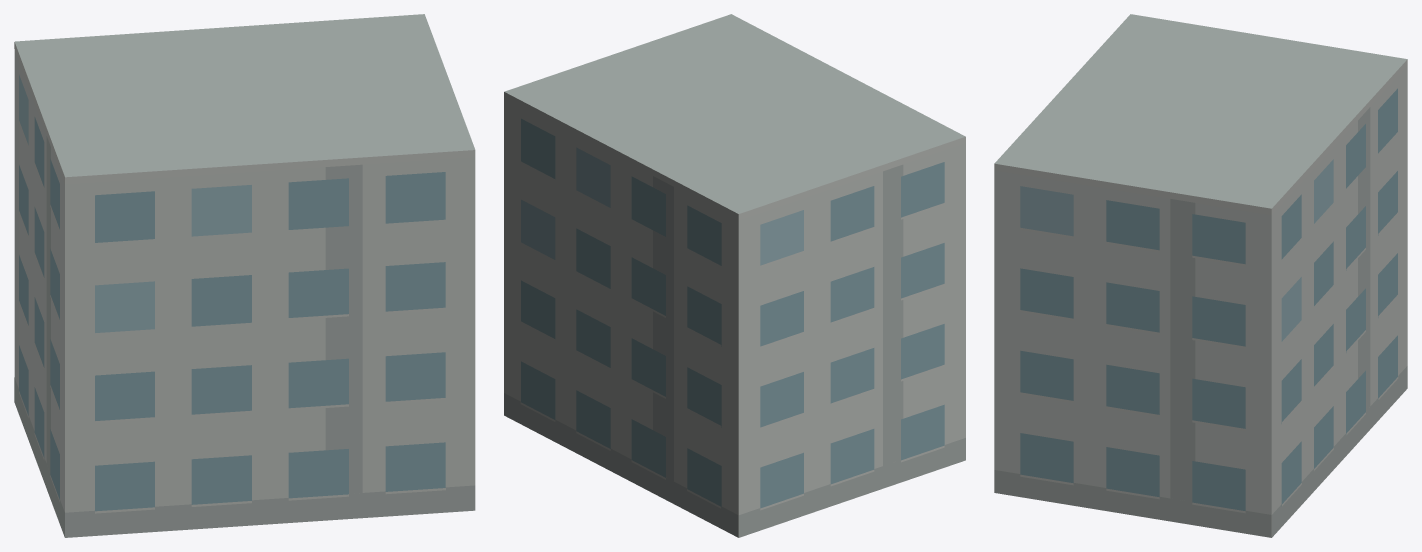
The model's file is residential-27dabec7-ad4e-45c3-a913-2dc025632e1e.glb.
3 views of the same model, side by side, from view 1: azimuth 30°, elevation 25°; view 2: azimuth 150°, elevation 25°; view 3: azimuth 270°, elevation 25° (orthographic). The views are drawn at different scales.
Visible parts, largest first — view 1: residential-27dabec7-ad4e-45c3-a913-2dc025632e1e.tmp; view 2: residential-27dabec7-ad4e-45c3-a913-2dc025632e1e.tmp; view 3: residential-27dabec7-ad4e-45c3-a913-2dc025632e1e.tmp.
Boxes of the visible parts, x1,y1,x2,y2 form: residential-27dabec7-ad4e-45c3-a913-2dc025632e1e.tmp: (14,14,475,537); residential-27dabec7-ad4e-45c3-a913-2dc025632e1e.tmp: (504,14,965,537); residential-27dabec7-ad4e-45c3-a913-2dc025632e1e.tmp: (994,14,1407,537).
Size of the model in its own units: 15.48 by 12.2 by 13.89.
